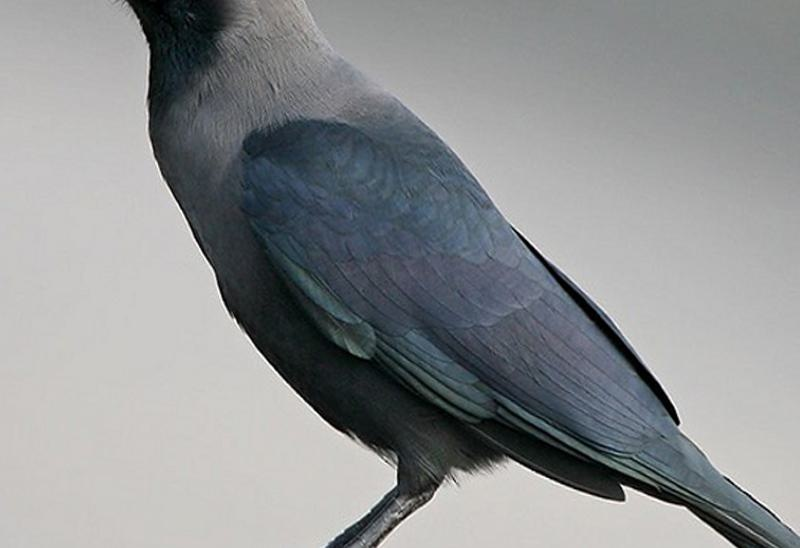crow: (65, 1, 761, 546)
